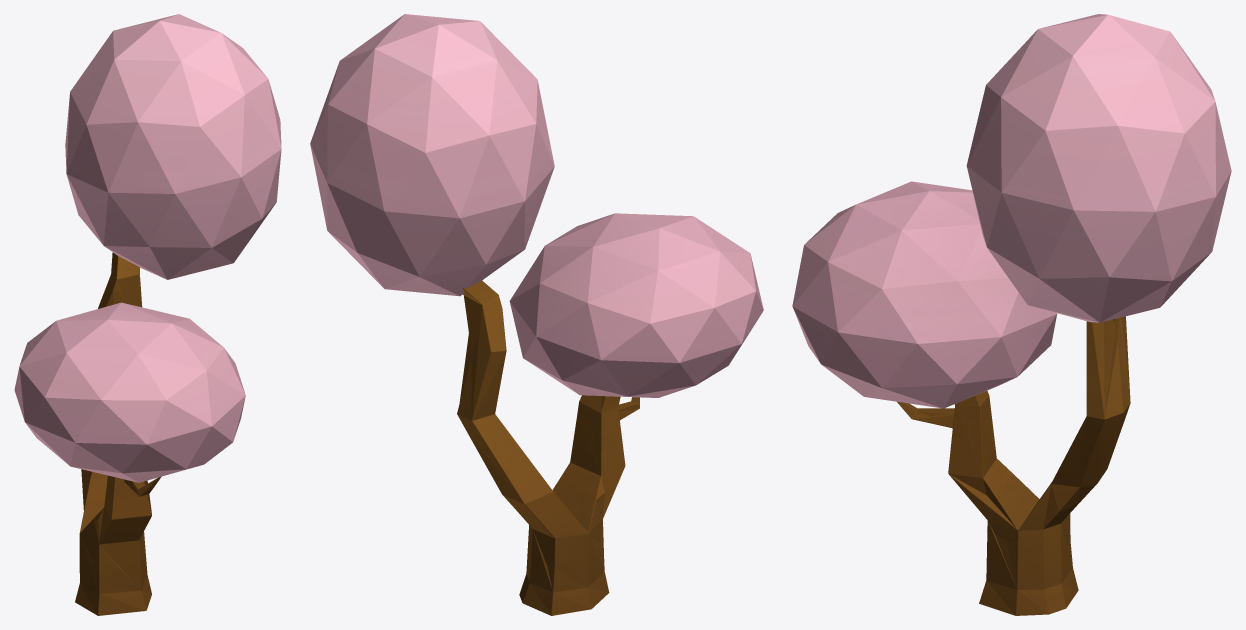
The model's file is tree_twin.glb.
3 views of the same model, side by side, from view 1: azimuth 30°, elevation 25°; view 2: azimuth 150°, elevation 25°; view 3: azimuth 270°, elevation 25° (orthographic). The views are drawn at different scales.
Parts seen in each view (by area): view 1: tree_twin; view 2: tree_twin; view 3: tree_twin.
Boxes of the visible parts, left/top/right/bottom form: tree_twin: left=14, top=14, right=281, bottom=615; tree_twin: left=310, top=14, right=763, bottom=615; tree_twin: left=792, top=14, right=1231, bottom=615.
Bounding box in the file's own units: 2.03 × 3.3 × 2.09.
1 material, 1 textured.
